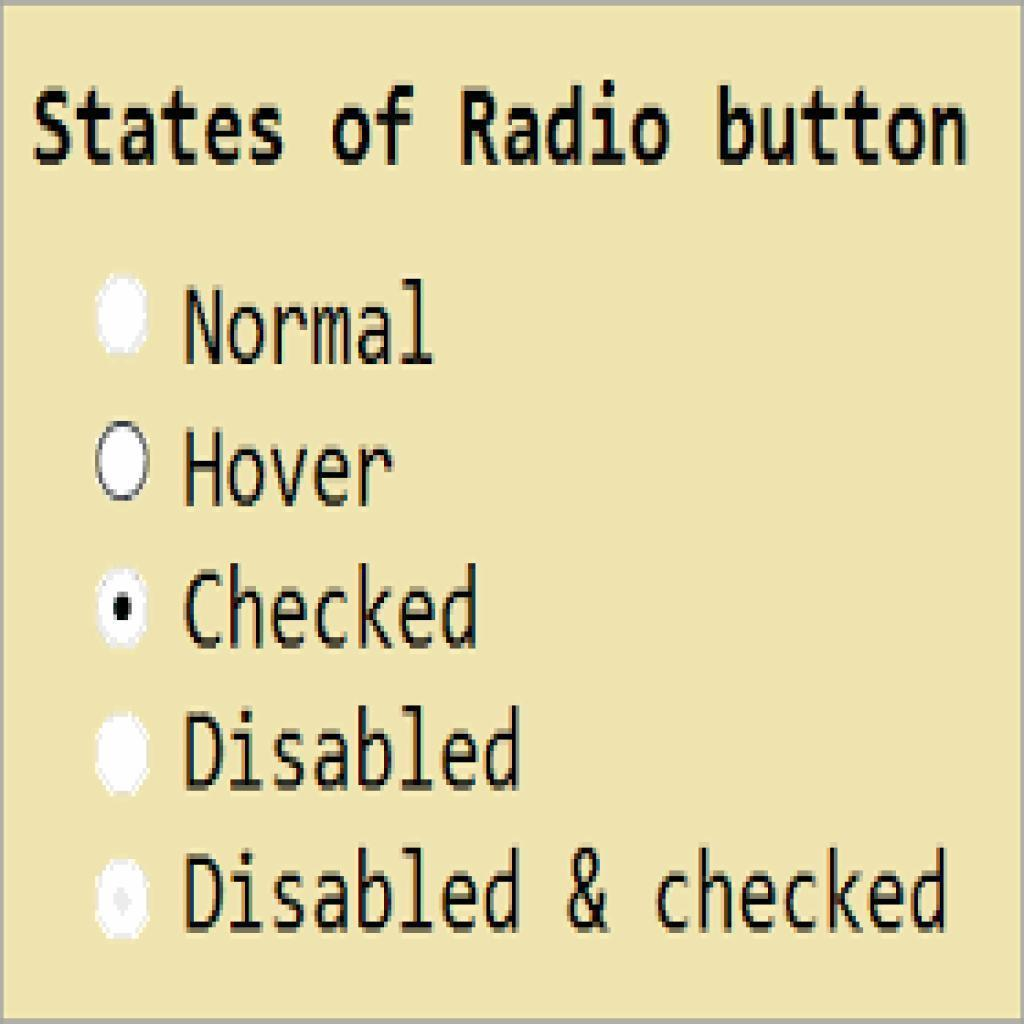label: (179, 840, 951, 942), (176, 694, 527, 800), (181, 554, 484, 657), (176, 273, 442, 376), (176, 419, 400, 518)
radio: (94, 567, 151, 650), (94, 420, 149, 501), (96, 859, 148, 943), (99, 272, 149, 358), (96, 716, 149, 795)
